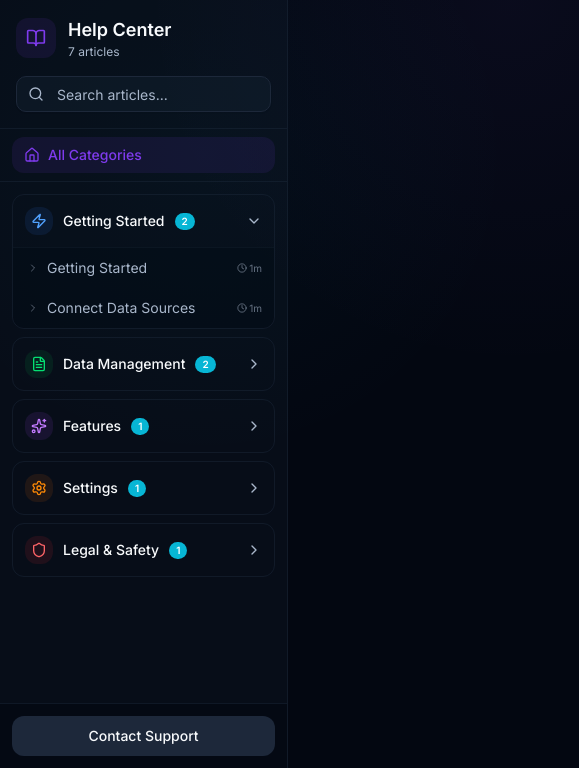
Test case: HelpSidebar Component › Search › should filter articles by category name
In the field with placeholder "Search articles...": coordinates (144, 94) left=16, top=76, right=271, bottom=112, type "settings"
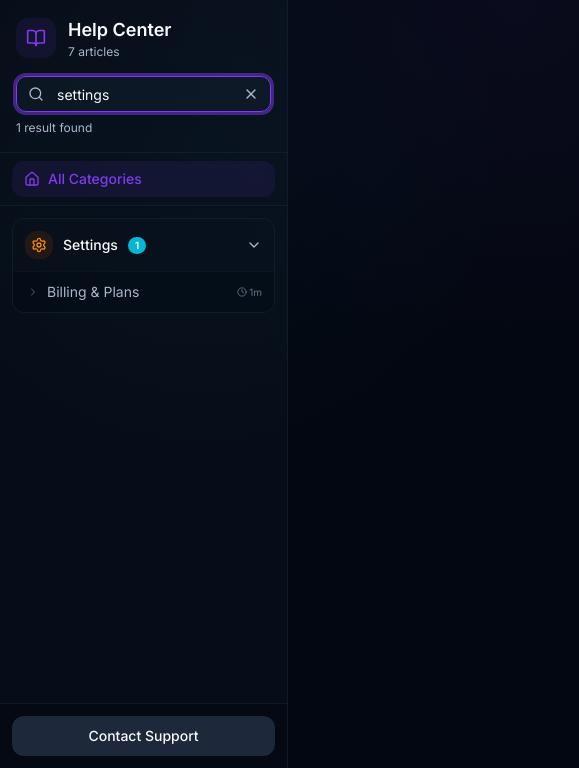
Check: the text "Billing & Plans" is shown, box left=47, top=283, right=139, bottom=300
